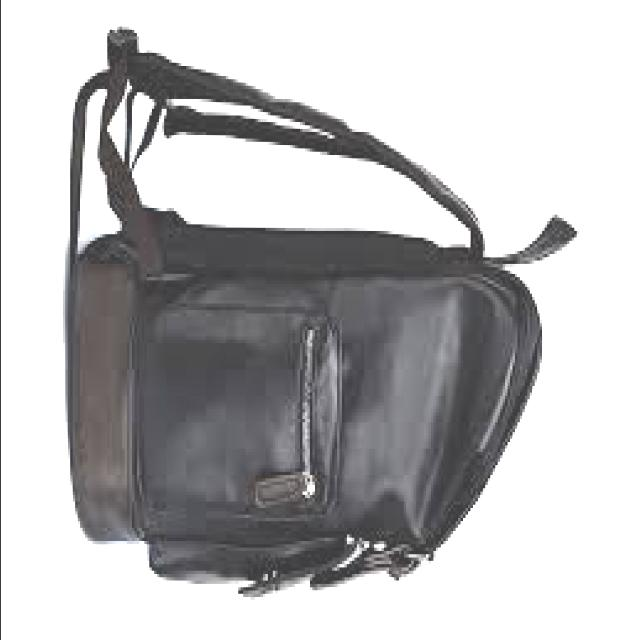backpack: (68, 28, 582, 598)
